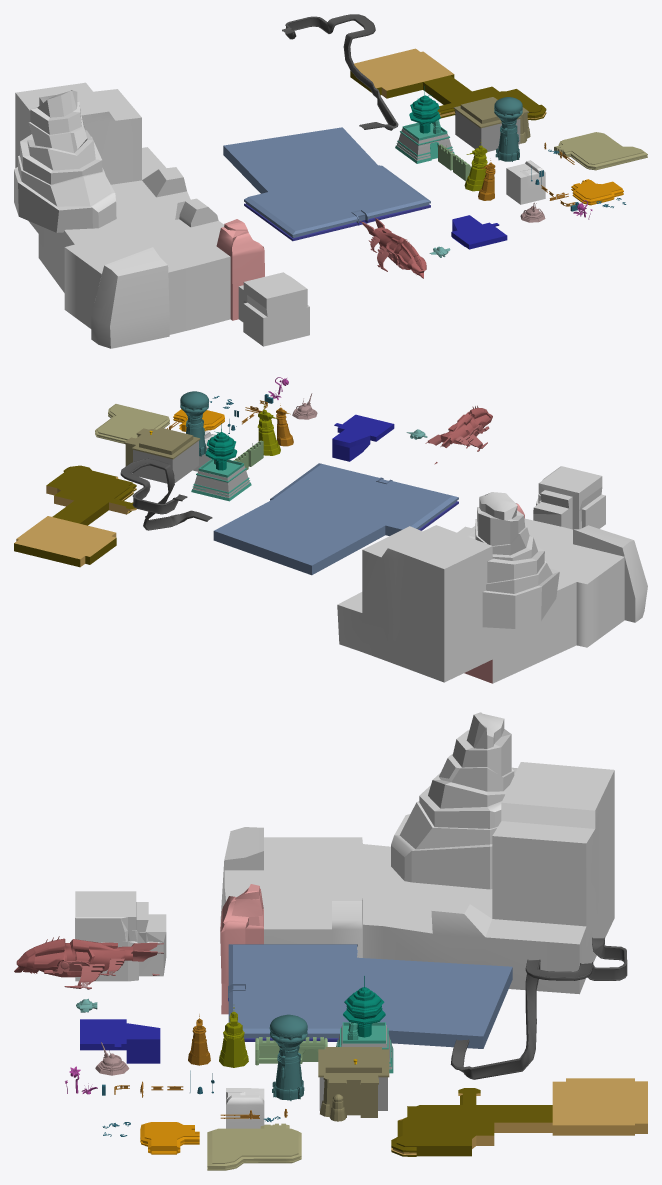
The model's file is assets uv mapped.fbx.
The picture shows the model from 3 angles, top to bottom: view 1: azimuth 30°, elevation 25°; view 2: azimuth 150°, elevation 25°; view 3: azimuth 270°, elevation 25°; orthographic projection. The views are drawn at different scales.
Parts seen in each view (by area): view 1: Citadel_rcok_plat, Far_Plat_A, rock_formation, Platform_C, arch_rock_plat, base (×2), magnet_ion_path, Platform_A, main, rock_front, Base, Far_Plat_B (+3 smaller); view 2: Citadel_rcok_plat, Far_Plat_A, rock_formation, Platform_C, base (×2), arch_rock_plat, magnet_ion_path, Far_Plat_B, main, Platform_A, Base, tower2 (+2 smaller); view 3: Citadel_rcok_plat, Far_Plat_A, rock_formation, Platform_C, base (×3), arch_rock_plat, magnet_ion_path, Platform_A, Far_Plat_B, Base, Platform_B, rock_front (+3 smaller).
Part boxes in pixels (x1,y1,x2,y2): Citadel_rcok_plat: (15,82,264,348); Far_Plat_A: (223,127,430,241); rock_formation: (14,90,116,232); Platform_C: (350,48,546,120); arch_rock_plat: (238,272,309,346); base (×2): (372,97,528,278); magnet_ion_path: (282,14,398,130); Platform_A: (554,132,647,170); main: (395,122,454,163); rock_front: (506,160,545,204); Base: (494,97,522,161); Far_Plat_B: (451,215,507,249); Citadel_rcok_plat: (337,503,647,683); Far_Plat_A: (213,463,458,575); rock_formation: (469,492,559,628); Platform_C: (14,465,136,567); base (×2): (124,408,492,483); arch_rock_plat: (533,466,605,529); magnet_ion_path: (120,458,212,530); Far_Plat_B: (332,414,394,461); main: (191,459,251,501); Platform_A: (95,404,169,444); Base: (180,391,208,456); tower2: (205,423,237,470); Citadel_rcok_plat: (220,762,614,1014); Far_Plat_A: (228,944,512,1048); rock_formation: (391,712,517,889); Platform_C: (391,1078,647,1156); base (×3): (14,938,389,1117); arch_rock_plat: (75,891,166,981); magnet_ion_path: (450,937,627,1079); Platform_A: (207,1123,301,1170); Far_Plat_B: (80,1019,160,1063); Base: (269,1014,307,1100); Platform_B: (140,1122,199,1154); rock_front: (226,1088,264,1128).
Bounding box in the file's own units: 119 × 36.92 × 91.96.
